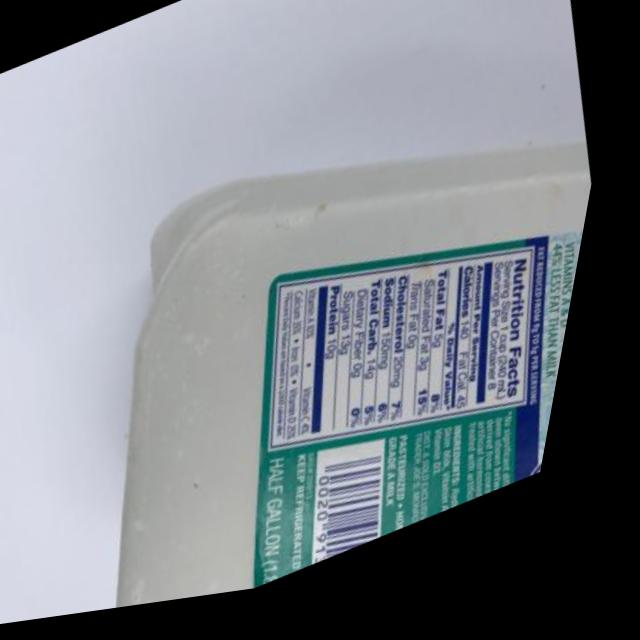plastic: (0, 0, 630, 631)
